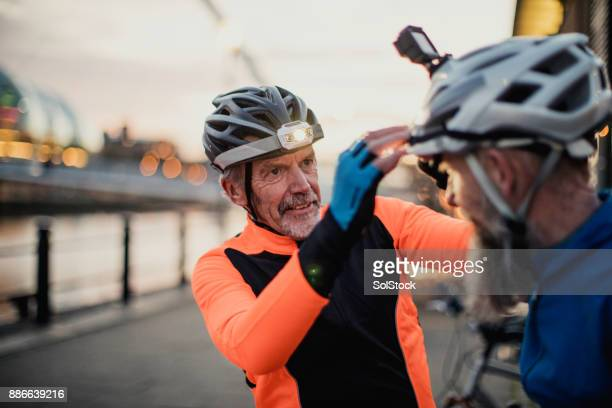helmet: (402, 33, 612, 256), (203, 85, 326, 237)
